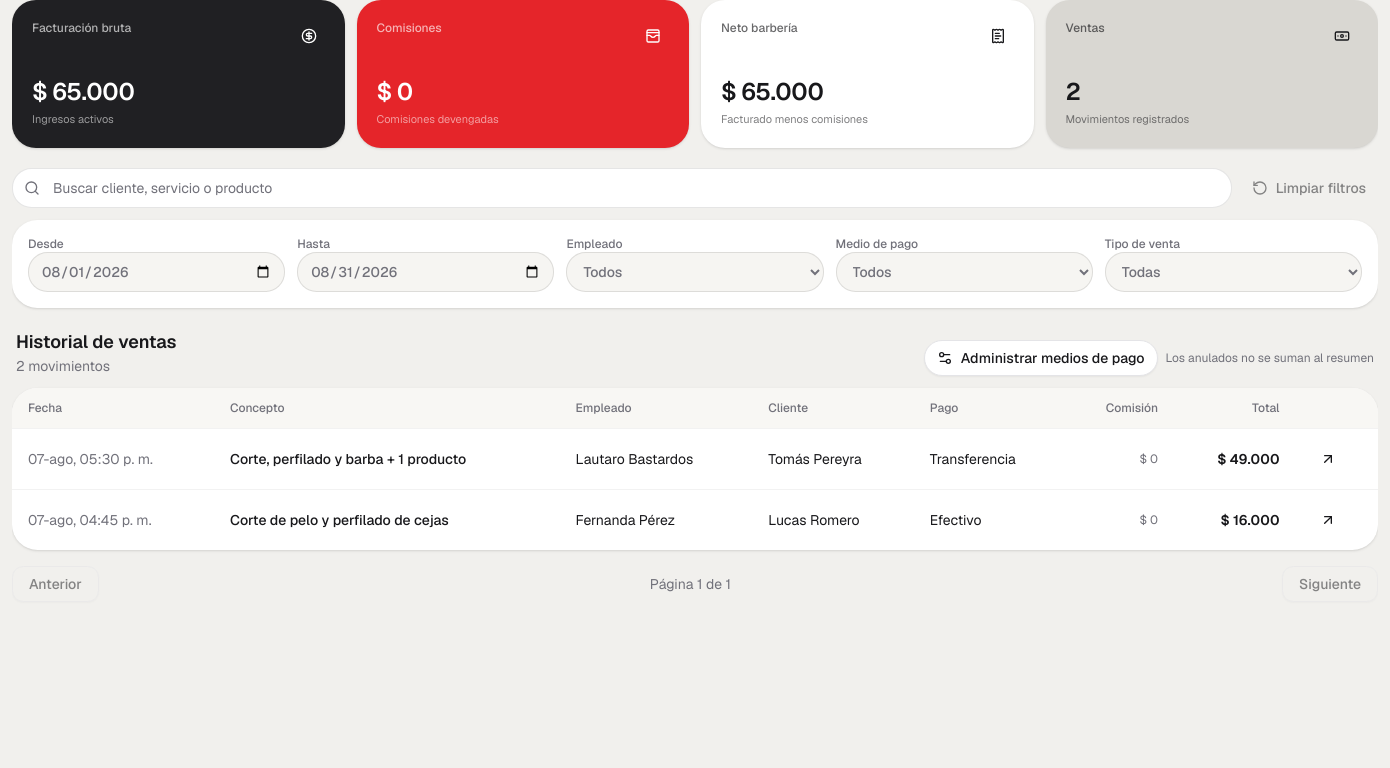
Scenario: IncomesView (manager) › does not present previously applied metrics while a new filter is loading
Expected: the element named "Resumen de ingresos" is shown, [12,0,1378,148]
In the date field named "Fecha desde": (157, 272) [28,252,285,292], type "2026-08-15"
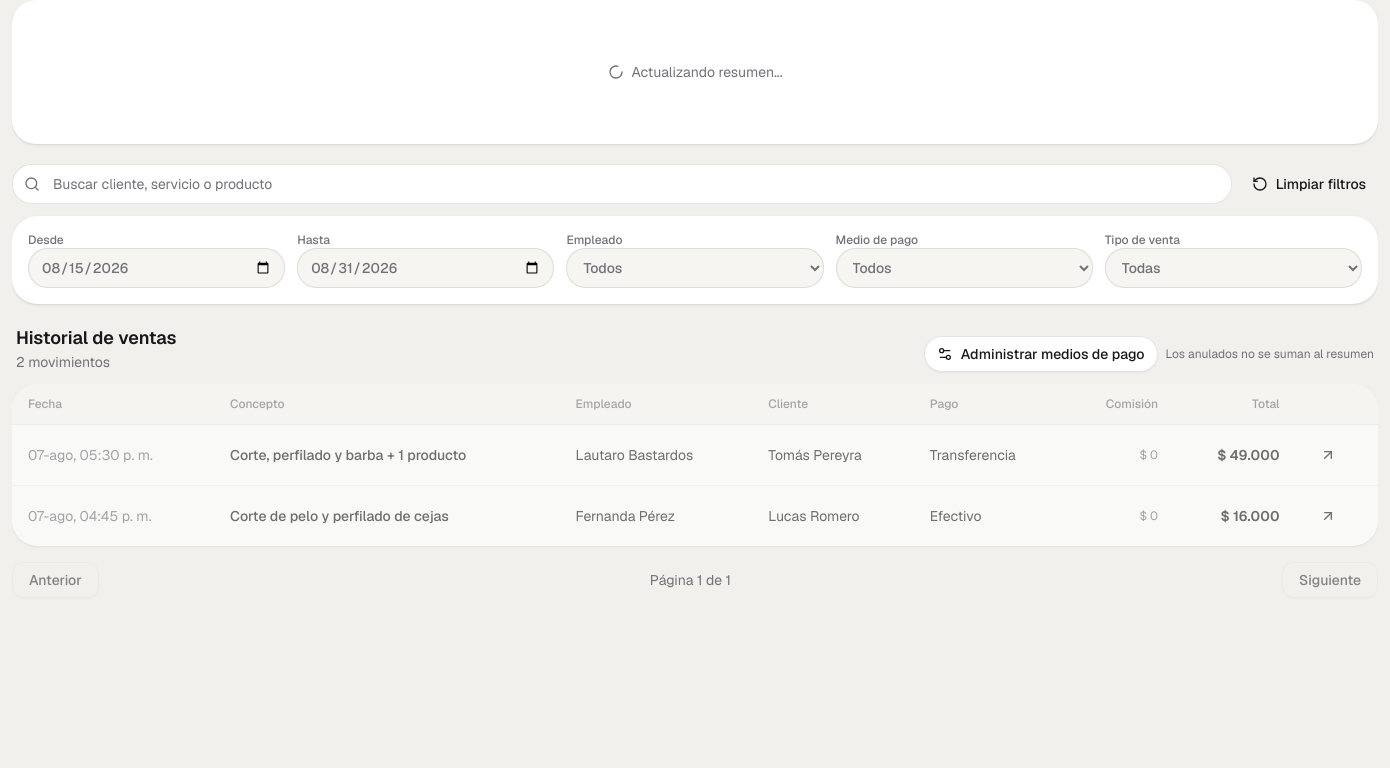
Now the message named "Actualizando resumen de ingresos" is shown, box [12,0,1378,144]
